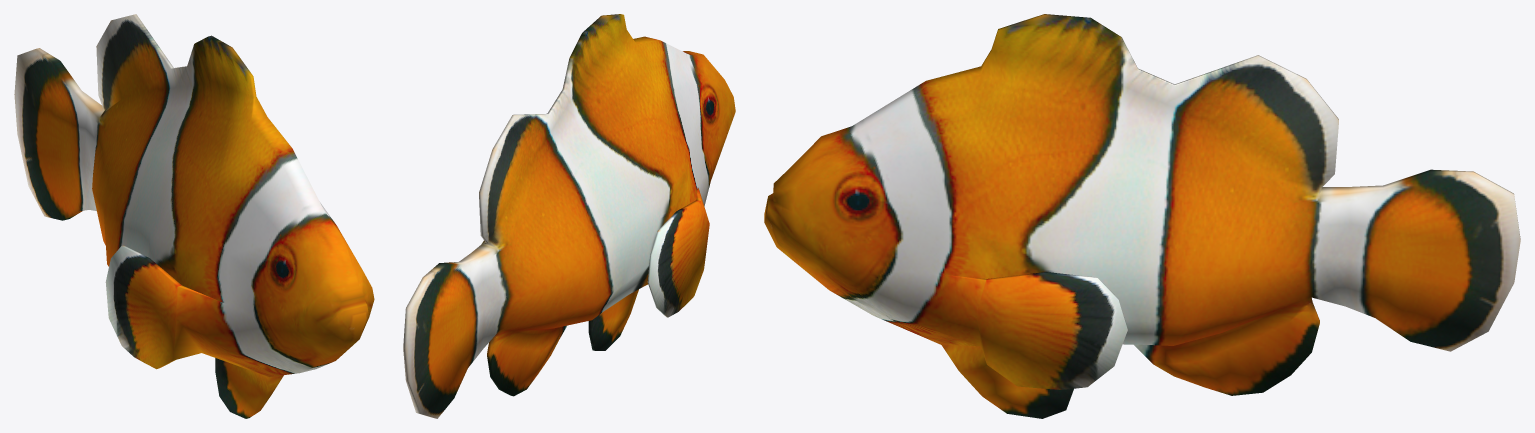
The model's file is TropicalFish12.fbx.
3 renders of one model, left to right at view 1: azimuth 30°, elevation 25°; view 2: azimuth 150°, elevation 25°; view 3: azimuth 270°, elevation 25°, orthographic. The views are drawn at different scales.
Visible parts, largest first — view 1: TropicalFish12; view 2: TropicalFish12; view 3: TropicalFish12.
Part boxes in pixels (<box>): TropicalFish12: <box>14,14,374,418</box>; TropicalFish12: <box>403,14,735,418</box>; TropicalFish12: <box>764,14,1520,418</box>.
Bounding box in the file's own units: 135 × 432 × 254.
